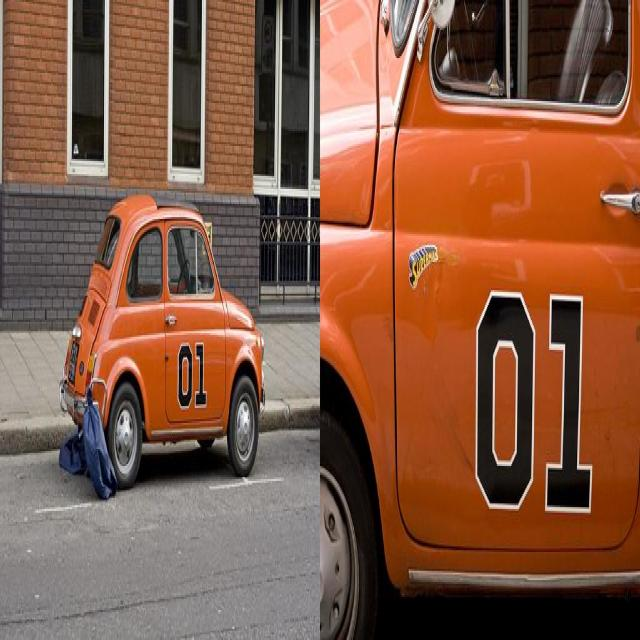car: (67, 182, 258, 487)
